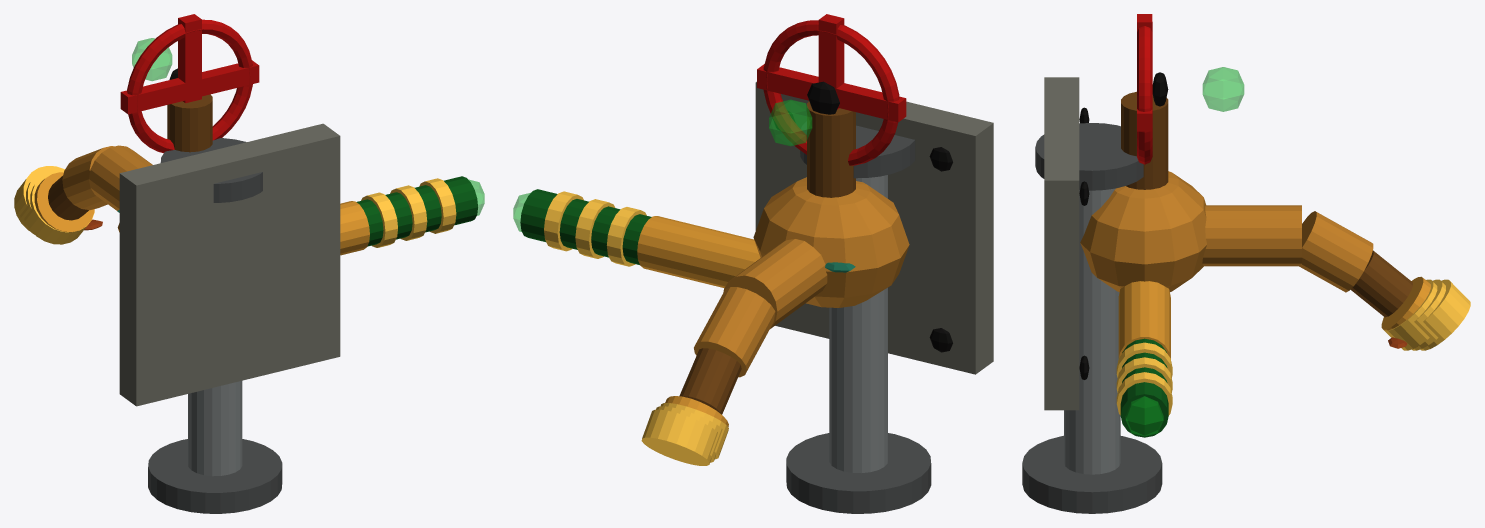
File: outdoor_water_tap_no_water.obj
The picture shows the model from 3 angles, left to right: view 1: azimuth 30°, elevation 25°; view 2: azimuth 150°, elevation 25°; view 3: azimuth 270°, elevation 25°; orthographic projection. The views are drawn at different scales.
Visible parts, largest first — view 1: Flat_wall_mounting_plate, Lower_pipe_flange, Vertical_supply_pipe, Round_turn_handle_wheel, Short_attached_hose_end, Handle_crossbar_horizontal, Top_valve_stem, Short_forward_spout_neck, Upper_pipe_collar, Handle_crossbar_vertical, Downturned_spout_curve_approx, Side_hose_connection_stub (+8 smaller); view 2: Flat_wall_mounting_plate, Rounded_tap_valve_body, Vertical_supply_pipe, Lower_pipe_flange, Side_hose_connection_stub, Round_turn_handle_wheel, Short_forward_spout_neck, Downturned_spout_curve_approx, Top_valve_stem, Short_attached_hose_end, Handle_crossbar_horizontal, Hose_connection_thread_ring_3 (+9 smaller); view 3: Flat_wall_mounting_plate, Rounded_tap_valve_body, Vertical_supply_pipe, Lower_pipe_flange, Short_forward_spout_neck, Downturned_spout_curve_approx, Upper_pipe_collar, Side_hose_connection_stub, Short_attached_hose_end, Top_valve_stem, Downward_outlet_nozzle, Round_turn_handle_wheel (+9 smaller).
Boxes of the visible parts, x1=… form: Flat_wall_mounting_plate: x1=119, y1=123, x2=340, y2=406; Lower_pipe_flange: x1=148, y1=439, x2=282, y2=513; Vertical_supply_pipe: x1=188, y1=381, x2=242, y2=476; Round_turn_handle_wheel: x1=127, y1=19, x2=252, y2=153; Short_attached_hose_end: x1=356, y1=176, x2=477, y2=246; Handle_crossbar_horizontal: x1=120, y1=60, x2=259, y2=114; Top_valve_stem: x1=167, y1=94, x2=212, y2=152; Short_forward_spout_neck: x1=89, y1=145, x2=152, y2=210; Upper_pipe_collar: x1=160, y1=138, x2=262, y2=202; Handle_crossbar_vertical: x1=178, y1=14, x2=201, y2=103; Downturned_spout_curve_approx: x1=62, y1=146, x2=114, y2=209; Side_hose_connection_stub: x1=340, y1=201, x2=369, y2=255; Flat_wall_mounting_plate: x1=755, y1=81, x2=993, y2=374; Rounded_tap_valve_body: x1=753, y1=177, x2=909, y2=307; Vertical_supply_pipe: x1=829, y1=175, x2=887, y2=473; Lower_pipe_flange: x1=786, y1=433, x2=931, y2=513; Side_hose_connection_stub: x1=637, y1=216, x2=760, y2=287; Round_turn_handle_wheel: x1=763, y1=20, x2=899, y2=165; Short_forward_spout_neck: x1=723, y1=239, x2=827, y2=328; Downturned_spout_curve_approx: x1=694, y1=287, x2=775, y2=377; Top_valve_stem: x1=807, y1=101, x2=855, y2=197; Short_attached_hose_end: x1=520, y1=189, x2=651, y2=264; Handle_crossbar_horizontal: x1=757, y1=64, x2=906, y2=122; Hose_connection_thread_ring_3: x1=641, y1=409, x2=717, y2=465; Flat_wall_mounting_plate: x1=1044, y1=77, x2=1079, y2=410; Rounded_tap_valve_body: x1=1080, y1=171, x2=1207, y2=292; Vertical_supply_pipe: x1=1064, y1=188, x2=1120, y2=474; Lower_pipe_flange: x1=1022, y1=435, x2=1162, y2=513; Short_forward_spout_neck: x1=1202, y1=205, x2=1301, y2=266; Downturned_spout_curve_approx: x1=1299, y1=211, x2=1373, y2=292; Upper_pipe_collar: x1=1035, y1=123, x2=1143, y2=190; Side_hose_connection_stub: x1=1118, y1=281, x2=1170, y2=358; Short_attached_hose_end: x1=1120, y1=338, x2=1168, y2=437; Top_valve_stem: x1=1121, y1=91, x2=1168, y2=189; Downward_outlet_nozzle: x1=1350, y1=250, x2=1412, y2=317; Round_turn_handle_wheel: x1=1137, y1=22, x2=1152, y2=164.
Size of what is drawn, in the model's own units: 1.09 by 1.18 by 1.03.
